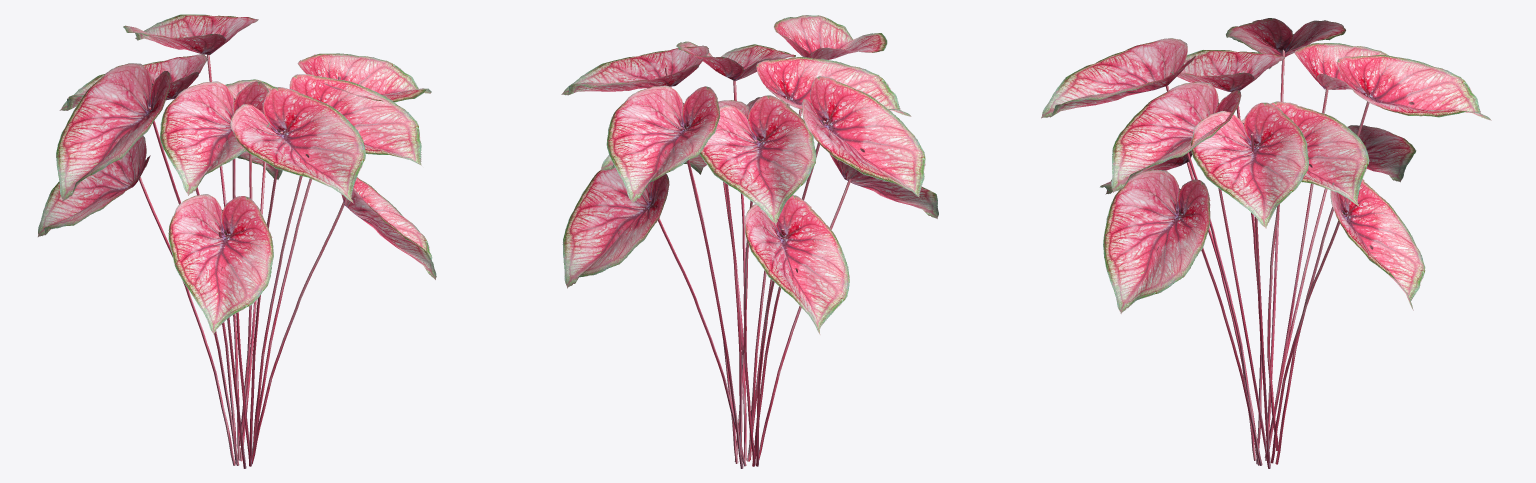
The model's file is caladium planten.fbx.
The picture shows the model from 3 angles, left to right: view 1: azimuth 30°, elevation 25°; view 2: azimuth 150°, elevation 25°; view 3: azimuth 270°, elevation 25°; orthographic projection.
Visible parts, largest first — view 1: pPlane5, pPlane2, pPlane1, pPlane9, pPlane10, pPlane8, pPlane3, pPlane4, pPlane6, pPlane12, pCylinder10, pCylinder6 (+9 smaller); view 2: pPlane12, pPlane4, pPlane1, pPlane8, pPlane7, pPlane9, pPlane3, pPlane2, pPlane10, pPlane5, pCylinder4, pCylinder11 (+8 smaller); view 3: pPlane6, pPlane3, pPlane10, pPlane4, pPlane2, pPlane7, pPlane11, pPlane9, pPlane1, pPlane8, pPlane12, pCylinder12 (+11 smaller).
Boxes of the visible parts, x1,y1,x2,y2 form: pPlane5: (168,194,273,334); pPlane2: (230,87,365,203); pPlane1: (56,63,170,201); pPlane9: (160,81,269,195); pPlane10: (289,74,421,165); pPlane8: (38,135,150,236); pPlane3: (297,53,431,102); pPlane4: (123,14,258,54); pPlane6: (341,177,436,279); pPlane12: (59,54,207,110); pCylinder10: (252,175,302,453); pCylinder6: (252,201,344,464); pPlane12: (699,95,816,224); pPlane4: (606,85,720,203); pPlane1: (802,76,925,200); pPlane8: (744,195,849,334); pPlane7: (562,168,669,288); pPlane9: (756,57,911,116); pPlane3: (561,45,709,95); pPlane2: (774,15,887,59); pPlane10: (676,41,795,80); pPlane5: (830,154,938,218); pCylinder4: (680,127,743,468); pCylinder11: (725,183,742,453); pPlane6: (1103,169,1210,313); pPlane3: (1191,102,1308,228); pPlane10: (1111,81,1241,192); pPlane4: (1337,54,1491,120); pPlane2: (1041,38,1195,118); pPlane7: (1330,179,1425,310); pPlane11: (1241,101,1369,207); pPlane9: (1170,50,1285,92); pPlane1: (1226,18,1345,68); pPlane8: (1348,125,1416,182); pPlane12: (1294,43,1388,89); pCylinder12: (1269,89,1328,448).
Bounding box in the file's own units: 13.13 × 12.59 × 14.03.
Materials: 1 (1 with a texture image).
